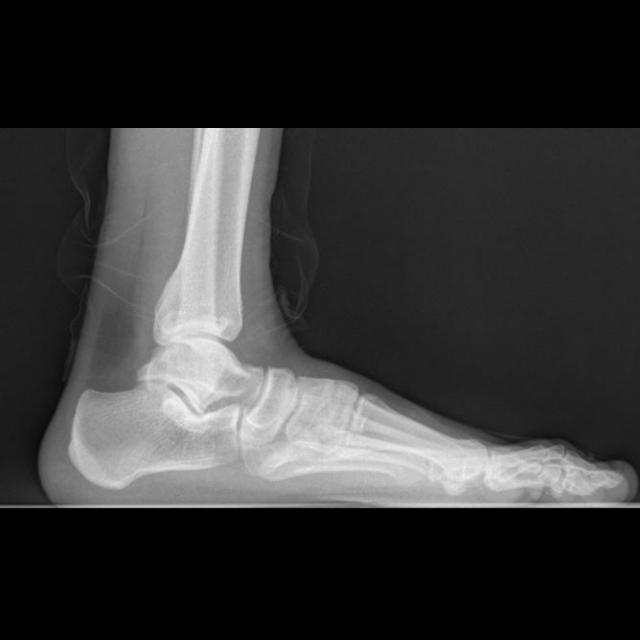a: (70, 380, 240, 489)
b: (240, 368, 299, 452)
c: (342, 390, 493, 503)
